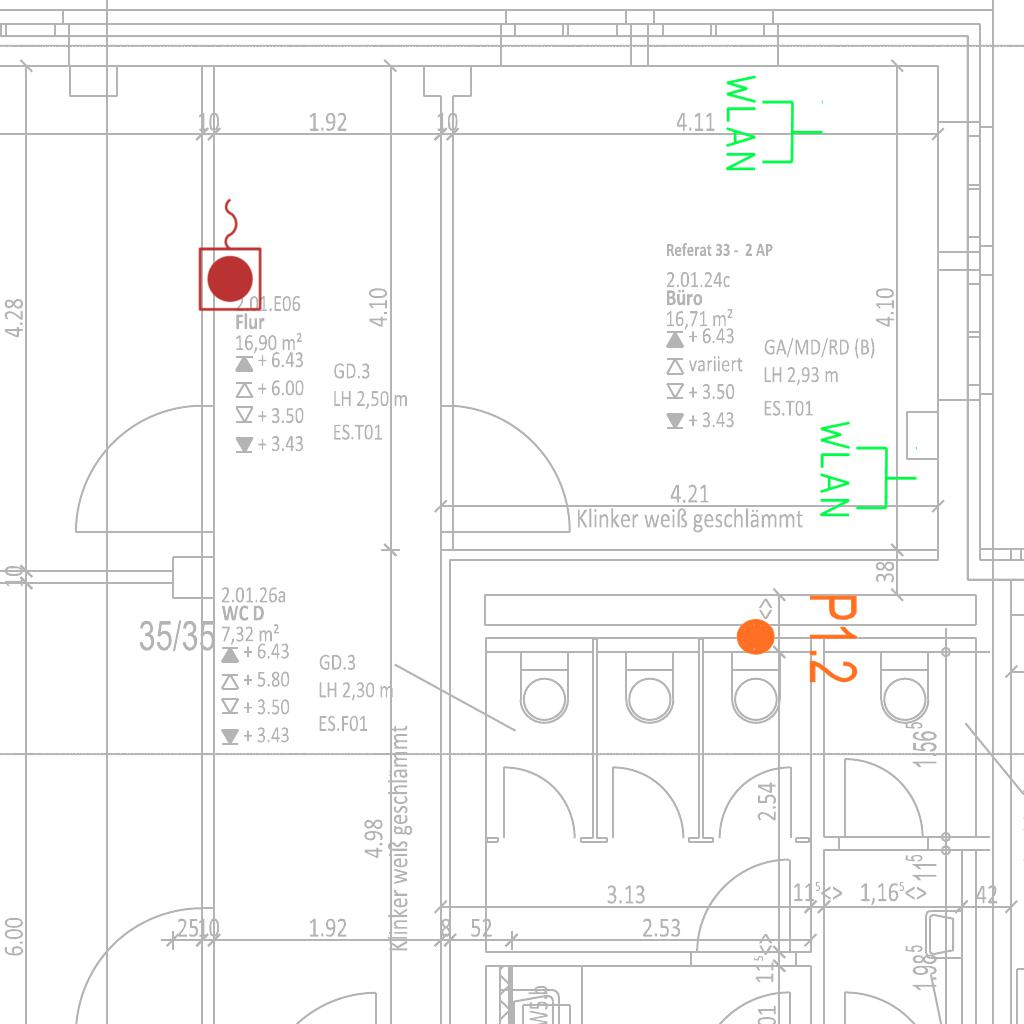Downlight_LED_Einbauleuchten_Flur: (733, 592, 861, 685)
WLAN: (722, 70, 826, 175), (816, 416, 920, 521)
Zugtaster: (195, 193, 267, 315)
